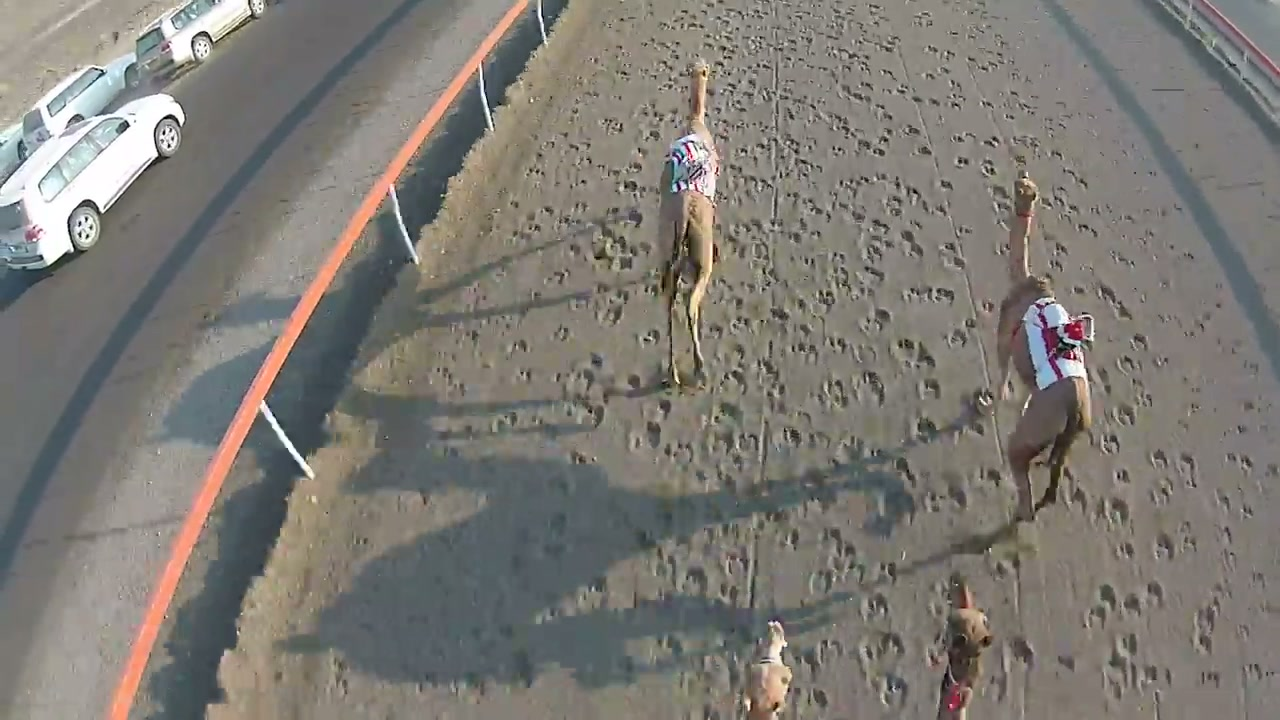animal_foot_print: (229, 0, 1279, 719)
